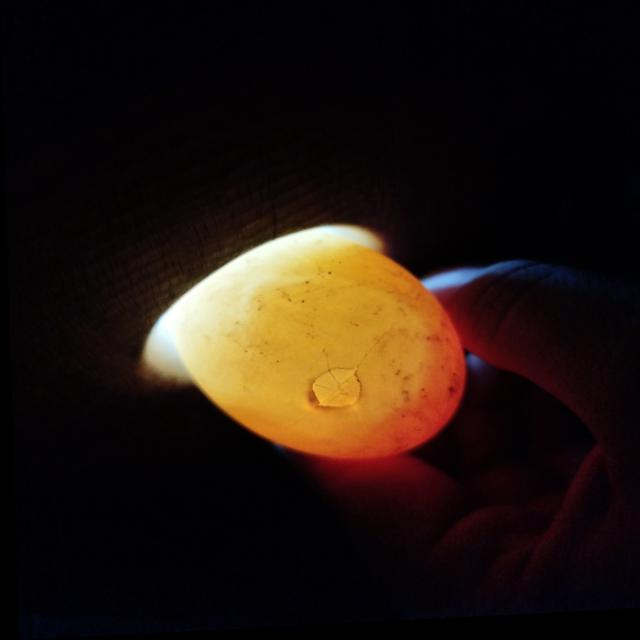Camara de Ar: (243, 281, 423, 429)
Rachadura: (310, 371, 358, 411)
